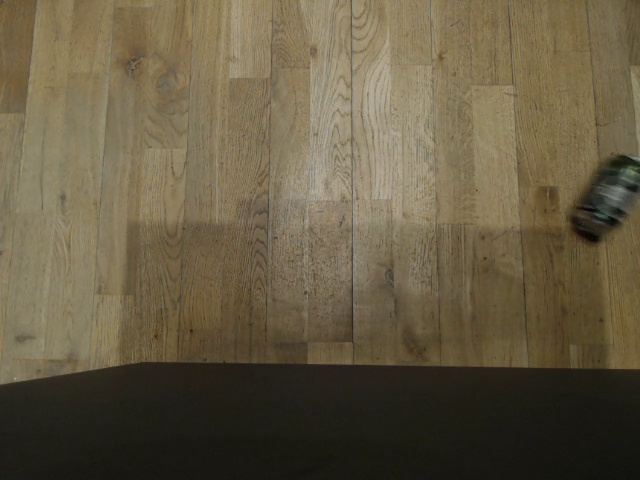beer: (568, 155, 640, 242)
